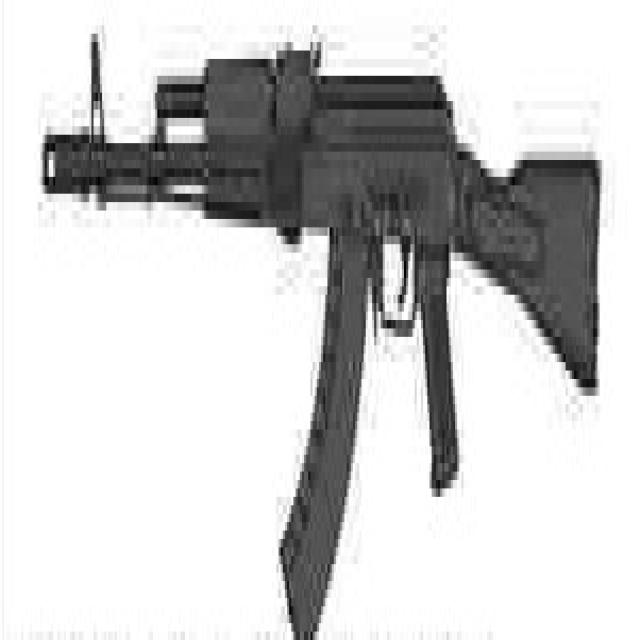rifle: (41, 16, 604, 640)
